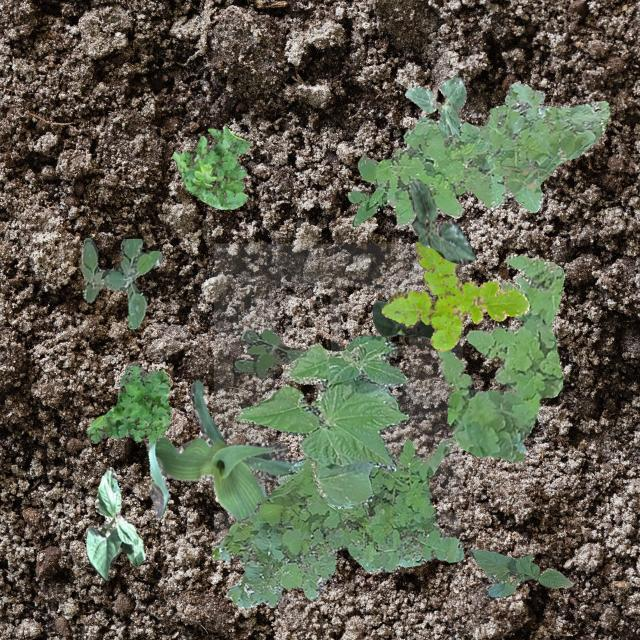crop: (146, 378, 296, 600), (234, 334, 408, 508), (85, 466, 144, 578), (406, 178, 474, 264), (468, 548, 570, 596), (404, 76, 466, 138), (372, 300, 434, 338)
weed: (210, 436, 462, 608), (374, 82, 608, 226), (436, 254, 564, 461), (381, 240, 528, 350), (346, 147, 466, 226), (80, 236, 162, 328), (86, 362, 170, 442), (172, 124, 250, 208), (232, 328, 304, 378), (274, 458, 304, 484)
